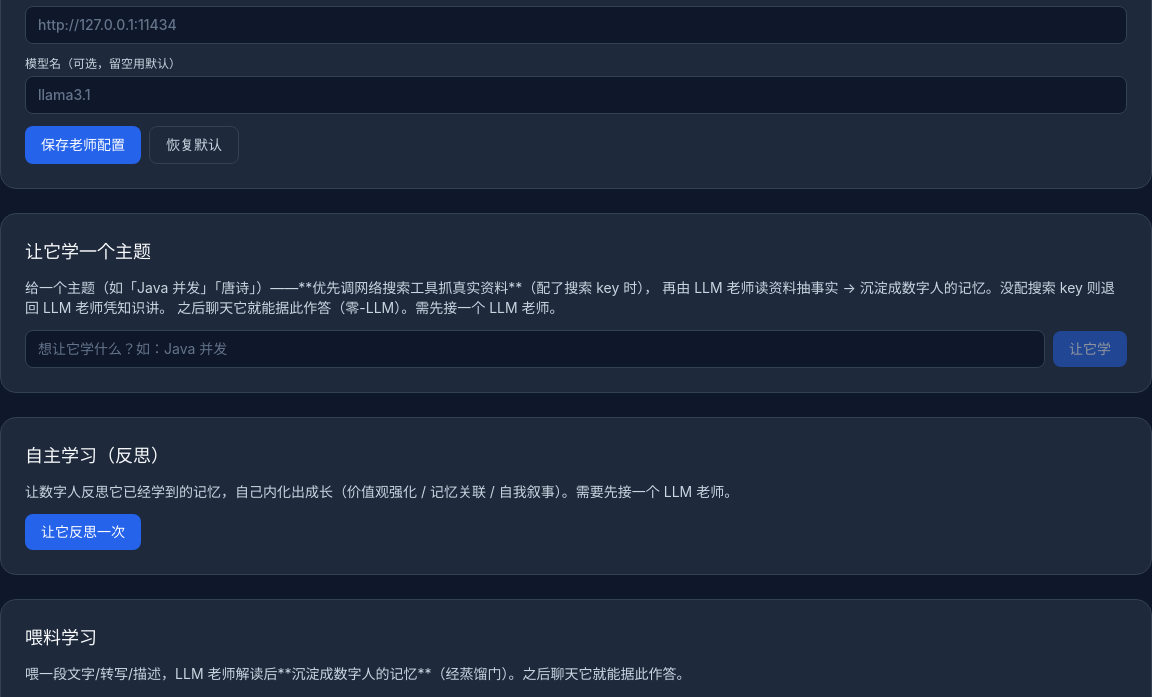
CompanionLearningPage（LLM 老师学习） › 学主题（web_search 来源）→ 调 learnTopic + 渲染记忆 + 标真实搜索来源
(page scrolled)
Type "Java" into the field named "学习主题" at (535, 349), box [25, 330, 1045, 368]
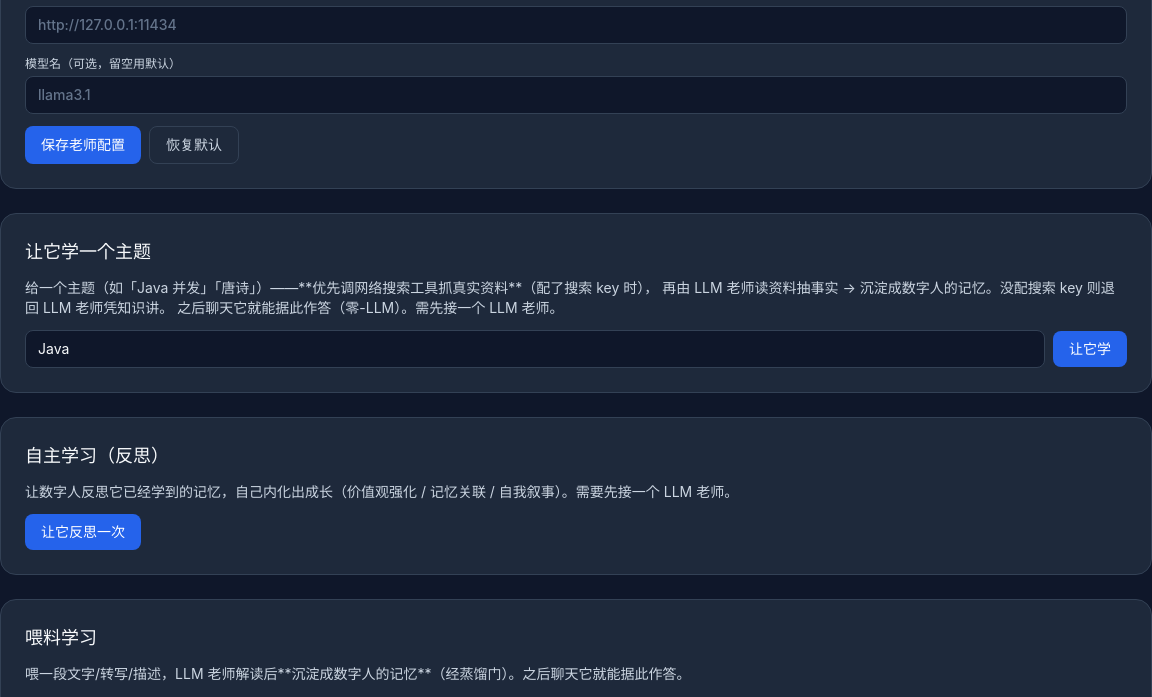
Click the button "让它学" at (1090, 349), box [1053, 331, 1127, 367]
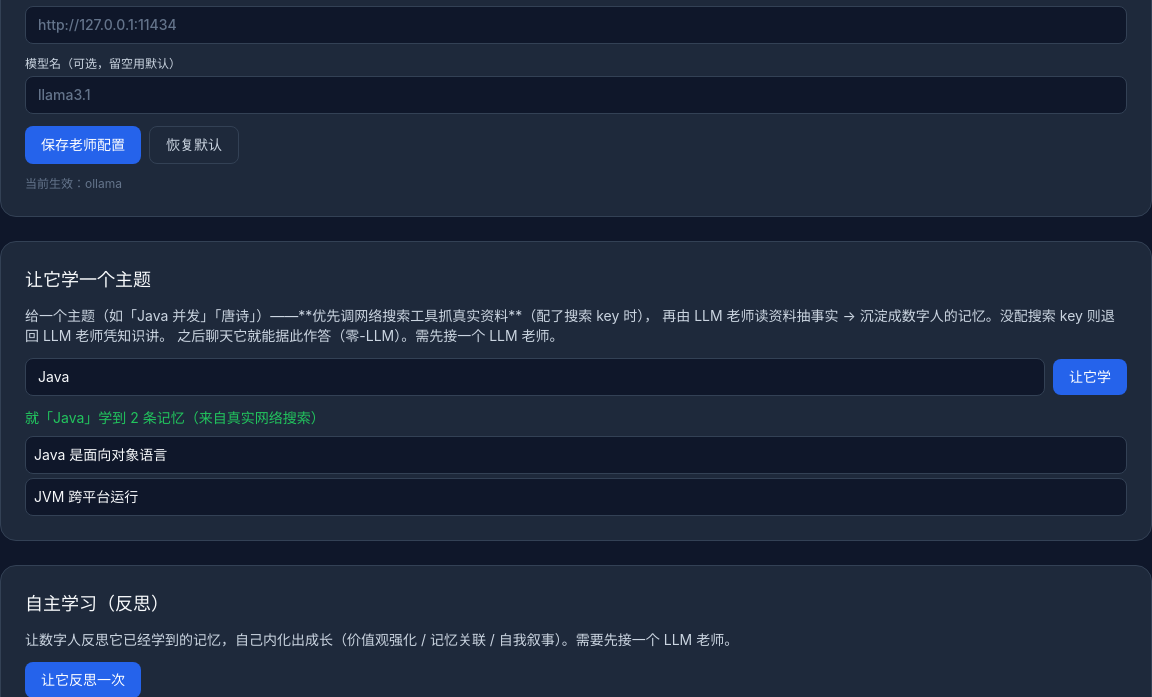
Expected: the text "就「Java」学到 2 条记忆（来自真实网络搜索）" is shown, [25, 409, 325, 426]
Expected: the list item "Java 是面向对象语言" is shown, [25, 436, 1127, 474]
